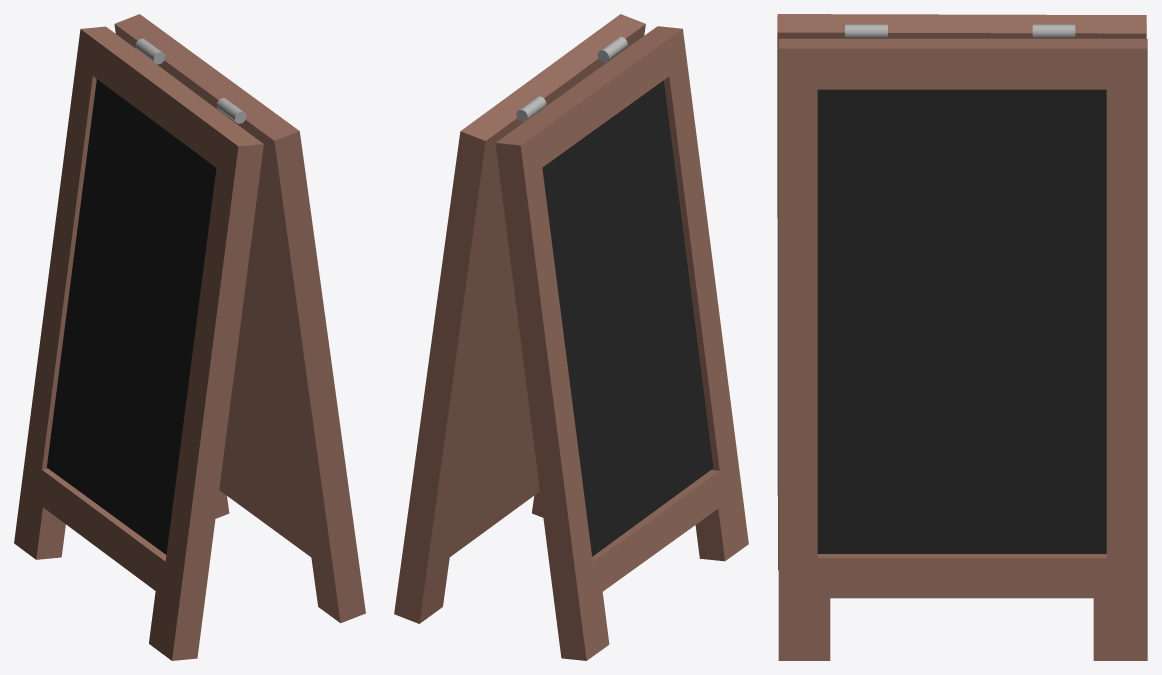
File: MenuSign.fbx
3 views of the same model, side by side, from view 1: azimuth 30°, elevation 25°; view 2: azimuth 150°, elevation 25°; view 3: azimuth 270°, elevation 25° (orthographic). The views are drawn at different scales.
Parts seen in each view (by area): view 1: Cube.001, Front.001, Front; view 2: Cube.001, Front.001, Front; view 3: Cube, Front, Front.001, Hinge_2, Hinge_1.
Boxes of the visible parts, x1=… form: Cube.001: x1=46, y1=79, x2=216, y2=554; Front.001: x1=14, y1=26, x2=263, y2=660; Front: x1=114, y1=14, x2=365, y2=623; Cube.001: x1=542, y1=80, x2=713, y2=556; Front.001: x1=495, y1=26, x2=748, y2=660; Front: x1=394, y1=14, x2=645, y2=623; Cube: x1=817, y1=89, x2=1106, y2=553; Front: x1=778, y1=38, x2=1147, y2=660; Front.001: x1=777, y1=14, x2=1146, y2=570; Hinge_2: x1=1032, y1=24, x2=1075, y2=38; Hinge_1: x1=845, y1=24, x2=887, y2=38.
Size of the model in its own units: 74.06 by 185 by 106.
